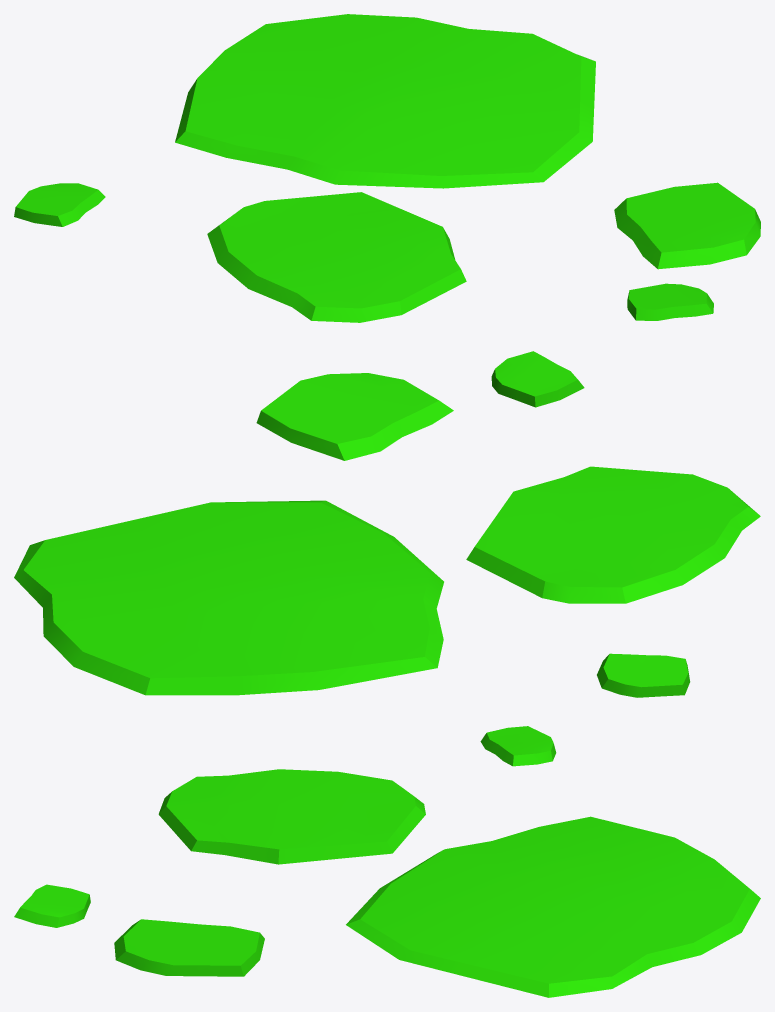
Rendered from Debris_Concrete_07.fbx.
3 renders of one model, top to bottom at view 1: azimuth 30°, elevation 25°; view 2: azimuth 150°, elevation 25°; view 3: azimuth 270°, elevation 25°, orthographic. The views are drawn at different scales.
Visible parts, largest first — view 1: Debris_Concrete_07; view 2: Debris_Concrete_07; view 3: Debris_Concrete_07.
Part boxes in pixels (x1=…): Debris_Concrete_07: x1=14, y1=14, x2=760, y2=322; Debris_Concrete_07: x1=14, y1=351, x2=760, y2=697; Debris_Concrete_07: x1=14, y1=726, x2=760, y2=997.
Size of the model in its own units: 105 by 3.24 by 125.
